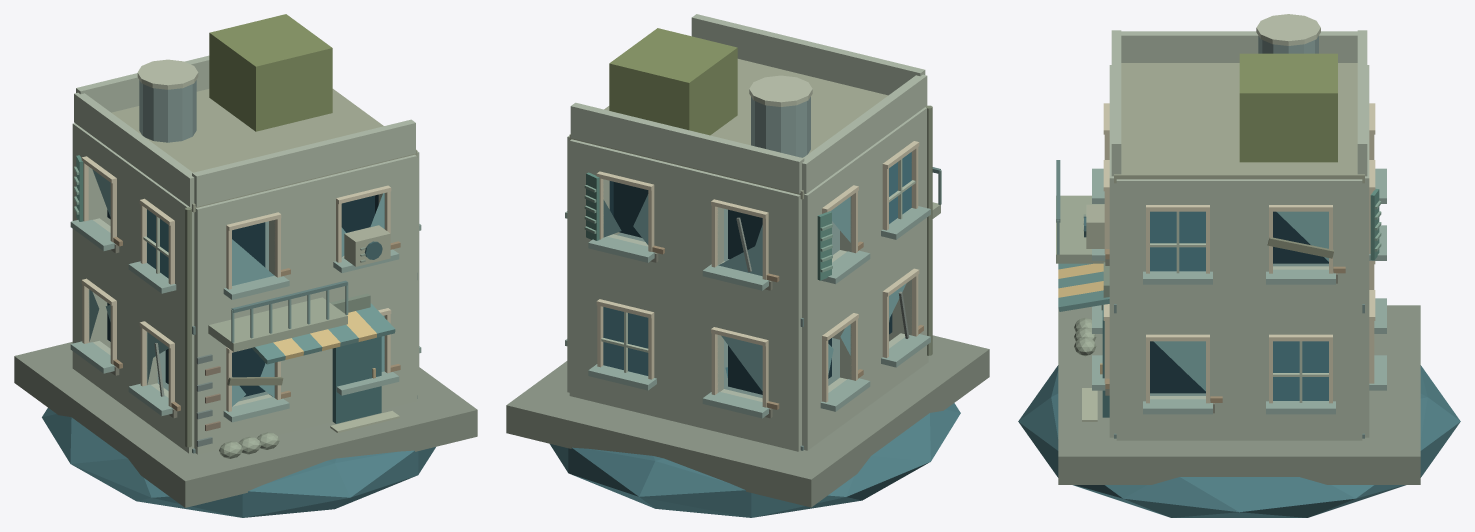
Rendered from house_11.glb.
The picture shows the model from 3 angles, left to right: view 1: azimuth 30°, elevation 25°; view 2: azimuth 150°, elevation 25°; view 3: azimuth 270°, elevation 25°; orthographic projection. The views are drawn at different scales.
Visible parts, largest first — view 1: house_11; view 2: house_11; view 3: house_11.
Part boxes in pixels (x1,y1,x2,y2): house_11: (14,14,477,517); house_11: (506,14,989,517); house_11: (1018,14,1460,517).
Bounding box in the file's own units: 9.6 × 10.34 × 9.9.
